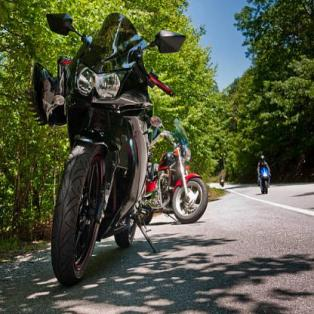Motocicleta: (28, 9, 154, 286), (148, 114, 212, 226), (254, 159, 272, 203)
